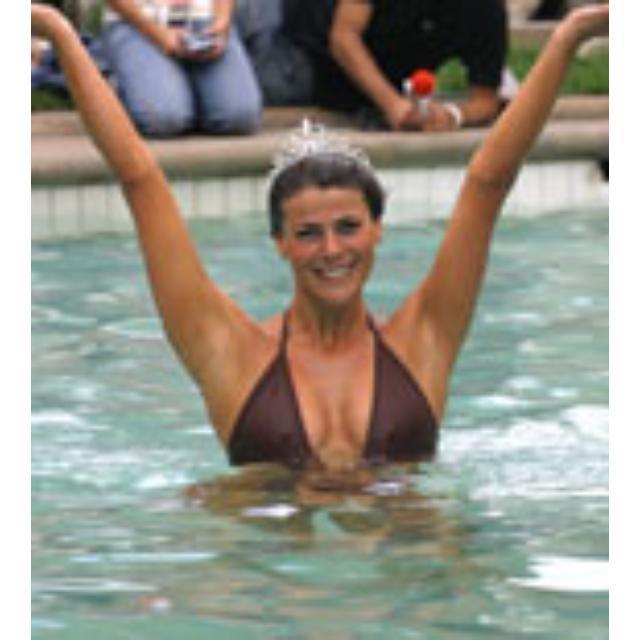human: (31, 1, 604, 479)
